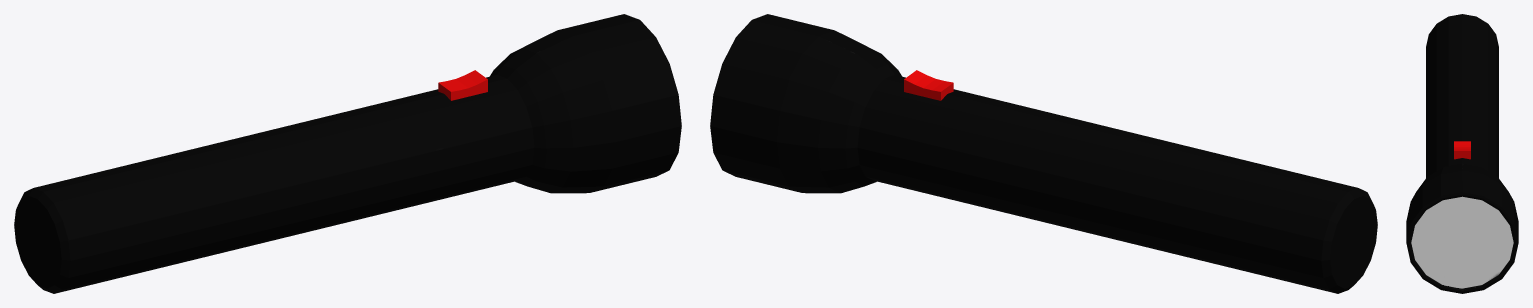
The model's file is Flashlight.fbx.
The picture shows the model from 3 angles, left to right: view 1: azimuth 30°, elevation 25°; view 2: azimuth 150°, elevation 25°; view 3: azimuth 270°, elevation 25°; orthographic projection. The views are drawn at different scales.
Parts seen in each view (by area): view 1: Cylinder; view 2: Cylinder; view 3: Cylinder.
Part boxes in pixels (left/top/right/bottom): Cylinder: left=14, top=14, right=681, bottom=293; Cylinder: left=710, top=14, right=1377, bottom=293; Cylinder: left=1406, top=14, right=1518, bottom=293.
Size of the model in its own units: 25.71 by 6.15 by 6.15.
